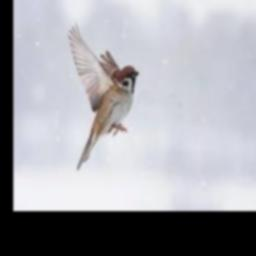Sparrow: (66, 23, 138, 170)
